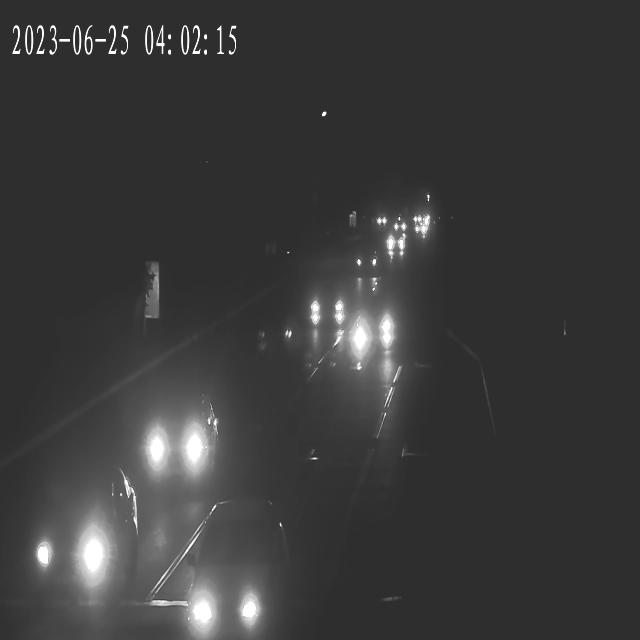Car: (34, 470, 133, 615), (179, 512, 284, 638), (127, 388, 222, 491), (340, 307, 396, 359), (303, 282, 350, 326), (351, 246, 377, 274), (383, 232, 402, 250), (385, 235, 405, 252), (390, 218, 406, 233), (412, 222, 428, 235), (374, 214, 388, 226)
